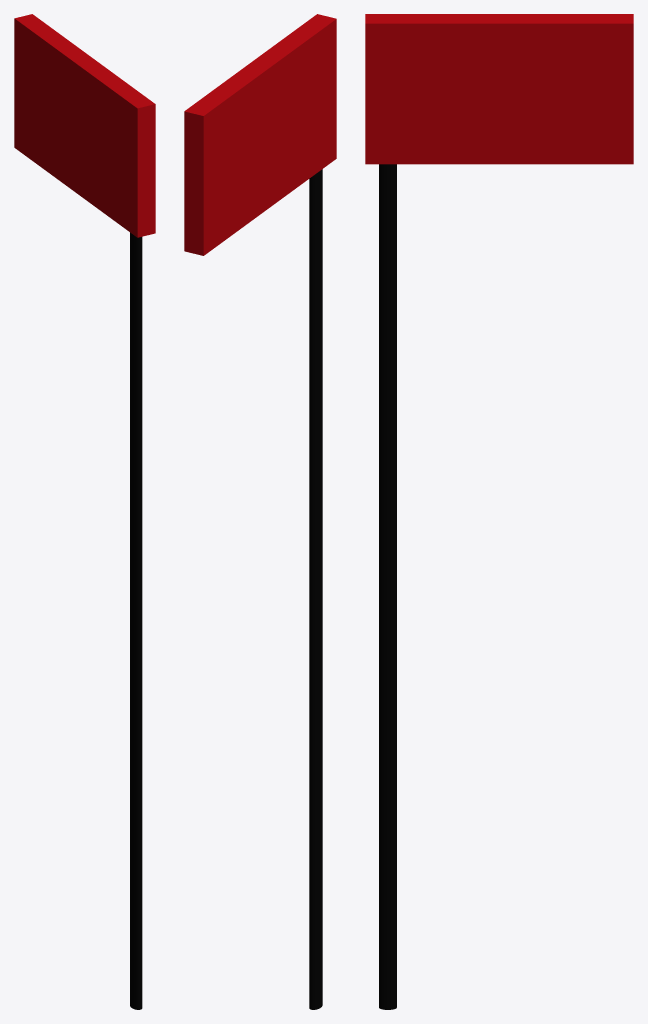
Rendered from Steag.fbx.
The picture shows the model from 3 angles, left to right: view 1: azimuth 30°, elevation 25°; view 2: azimuth 150°, elevation 25°; view 3: azimuth 270°, elevation 25°; orthographic projection. The views are drawn at different scales.
Visible parts, largest first — view 1: Cube; view 2: Cube; view 3: Cube.
Boxes of the visible parts, x1,y1,x2,y2 form: Cube: [14, 14, 155, 1009]; Cube: [184, 14, 336, 1009]; Cube: [365, 14, 633, 1009].
Size of the model in its own units: 2.64 by 127 by 31.24.
